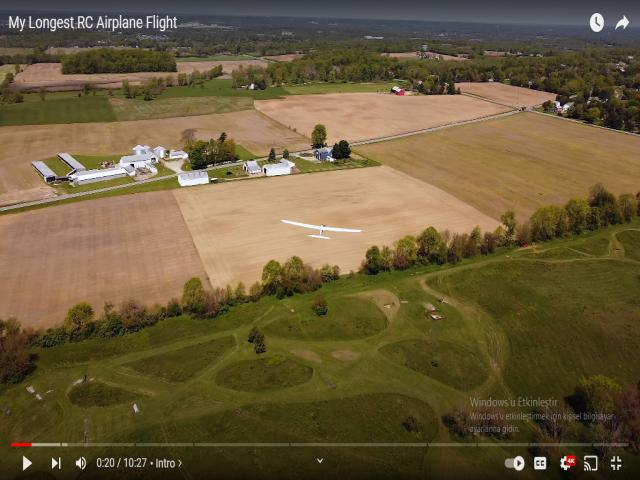plane: (282, 218, 362, 242)
